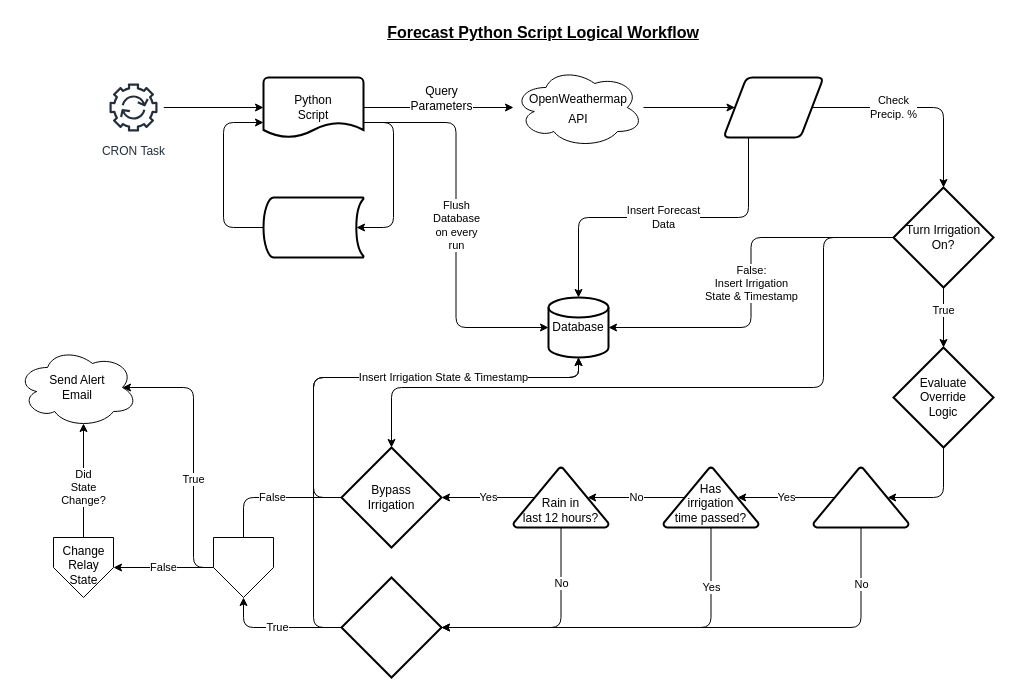
Image size: 1012x695. Some labels were removed from this diagram. The centre of each missing label's shape, as x and y in pixels:
Don't Bypass Irrigation: the point at 391,627
Environment Variables: the point at 313,227
Forecast Data: the point at 773,107
Is it an irrigation day?: the point at 860,497
Manual Override?: the point at 243,567
